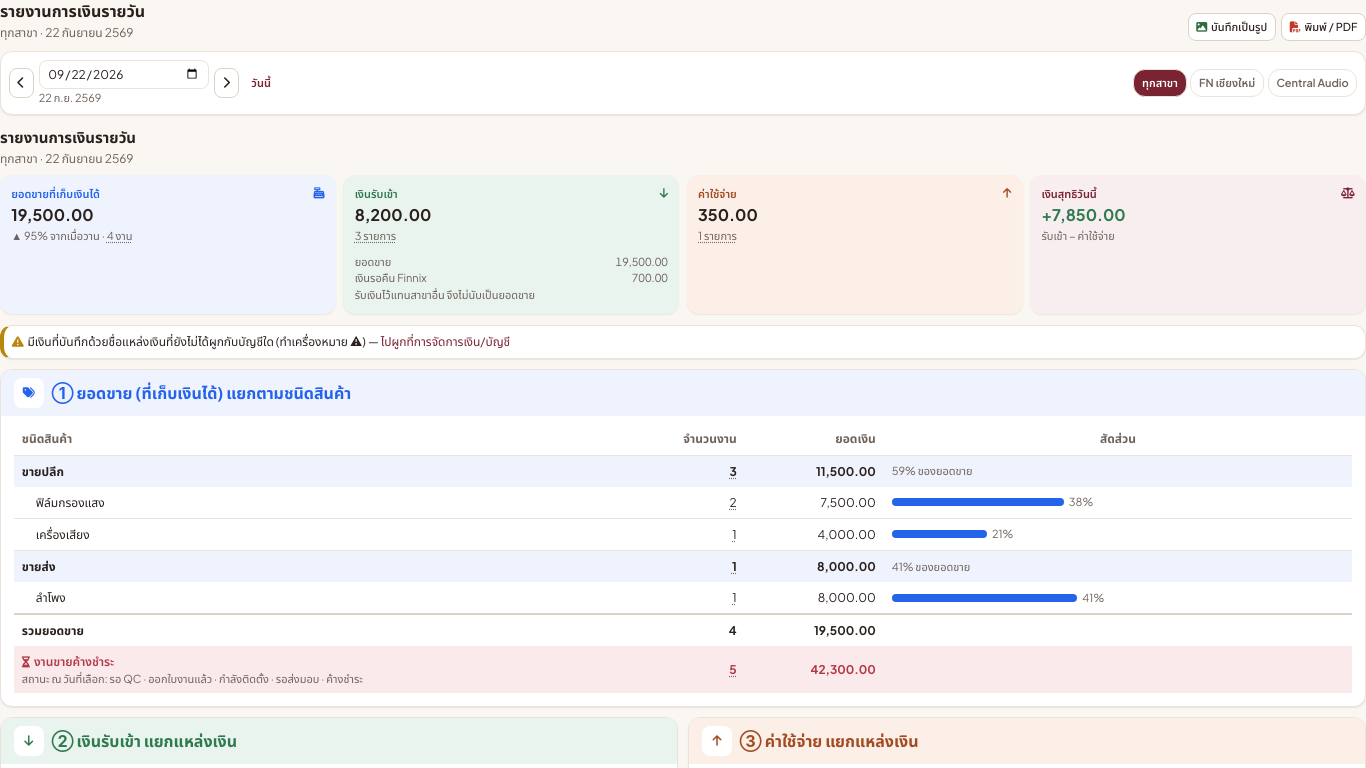
DailyReportView — ที่มาของจำนวน › ชี้เมาส์เฉย ๆ แล้วเอาเมาส์ออก กล่องปิดเอง
This screenshot has width=1366, height=768.
Hover over the button with aria-label "ดูที่มาของ4 งาน": point(120, 236) [107,228,133,244]
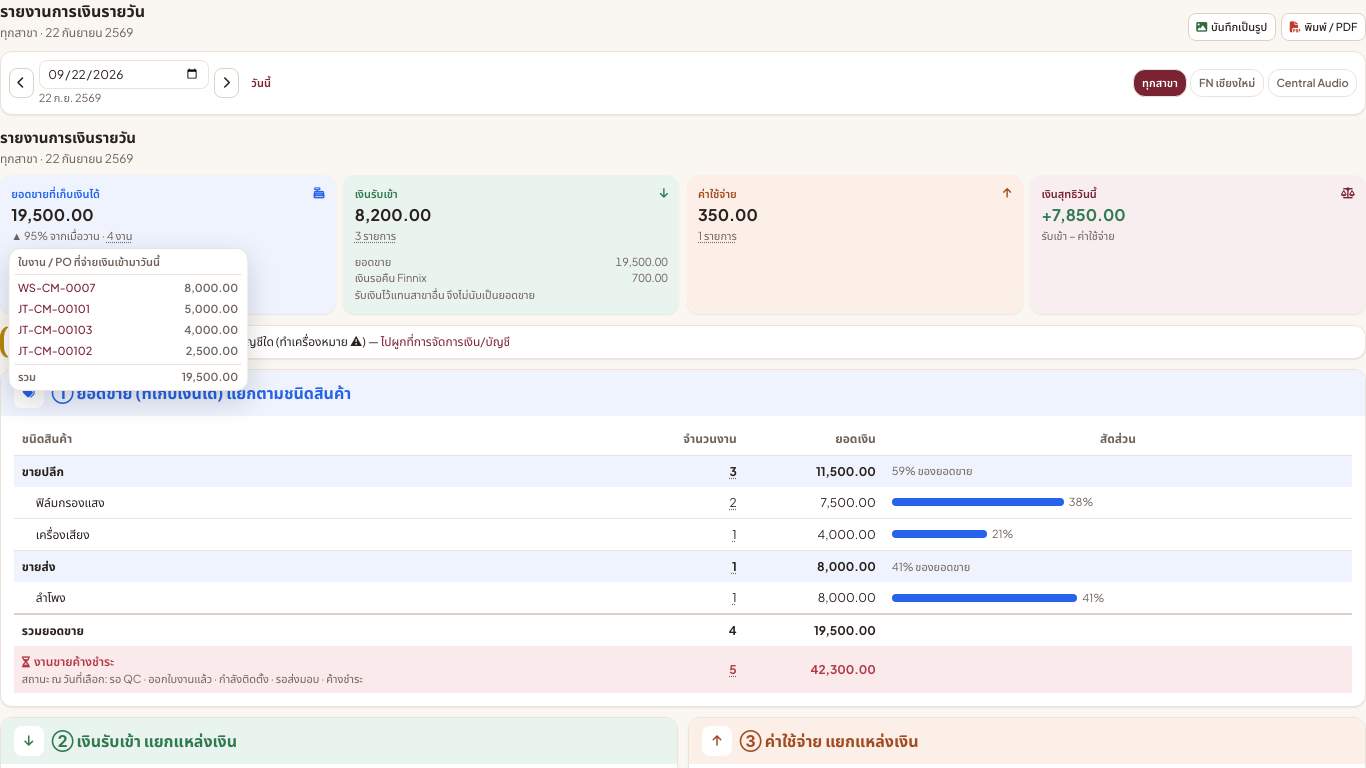
Result: the dialog is shown at [8,248,248,391]
Move the pointer off the button with aria-label "ดูที่มาของ4 งาน", box [107,228,133,244]
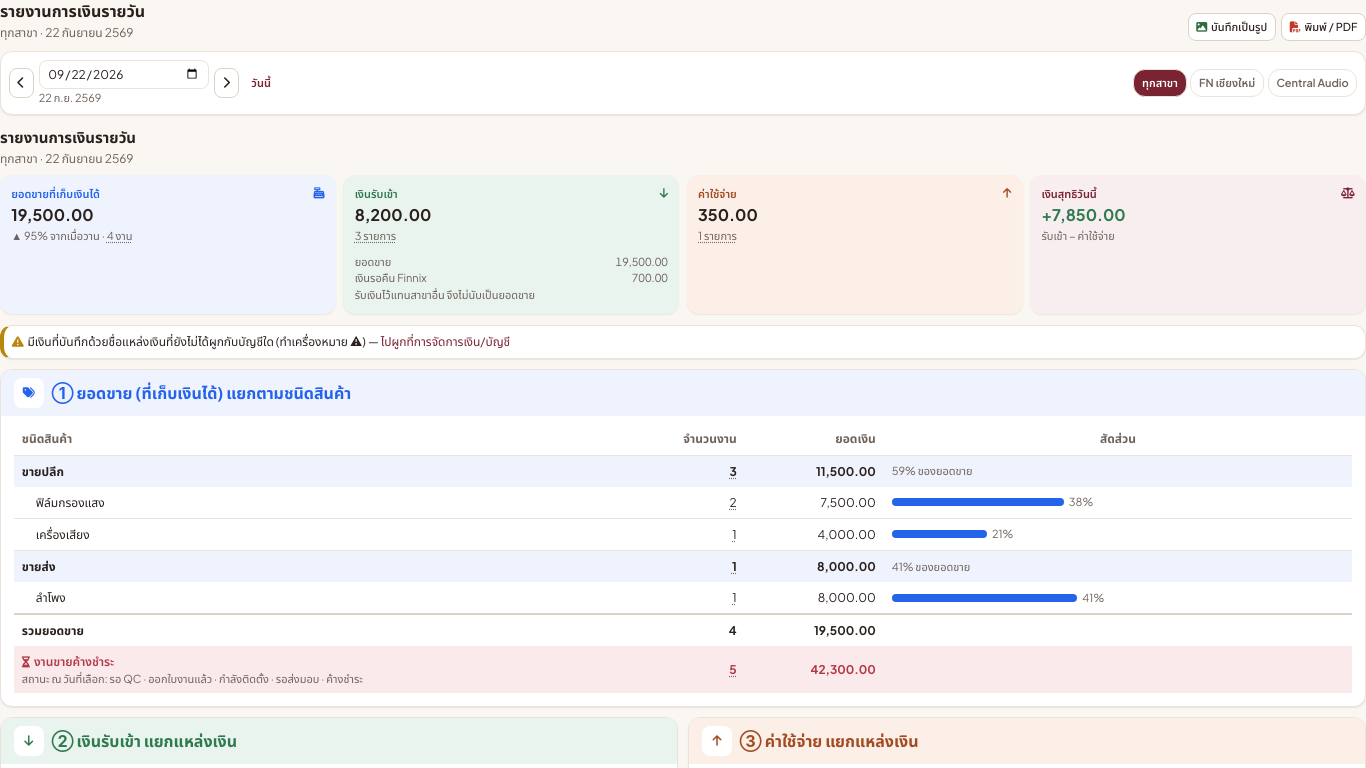
Result: the dialog is gone
